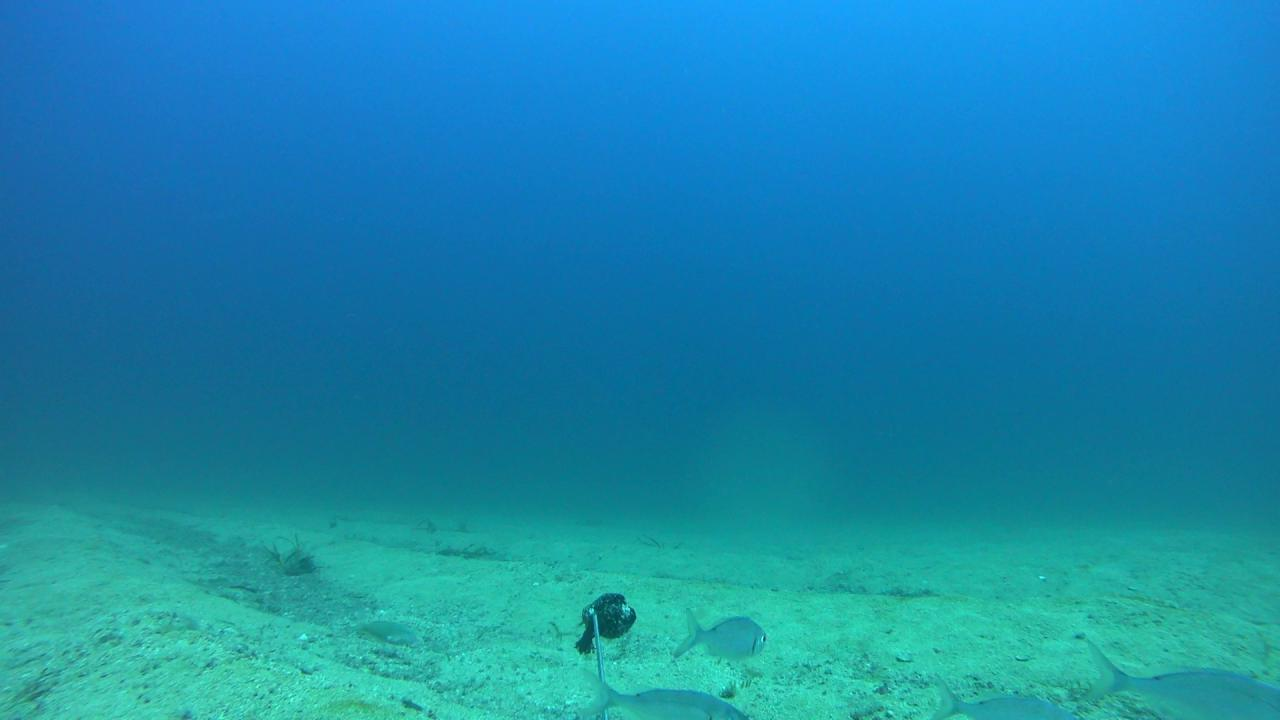pagellus: (671, 607, 765, 660)
